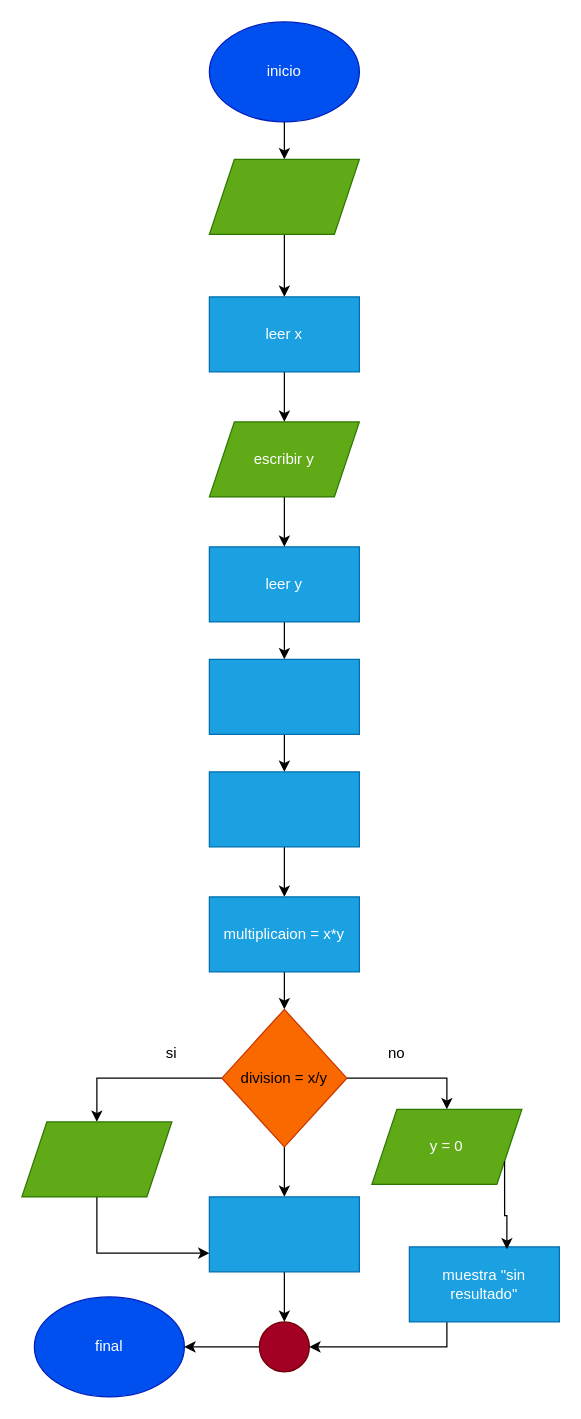
The diagram is 581 pixels wide and 1419 high, and some of its shapes have lost their labels. Here are the shapes that lost their labels. From the top down, the centre of each, then its label:
At (283,196): "escribir x".
At (283,696): "sumar= x+y".
At (283,809): "restar= x-y".
At (96,1159): "y > 0".
At (283,1234): "mostrar resultado".
